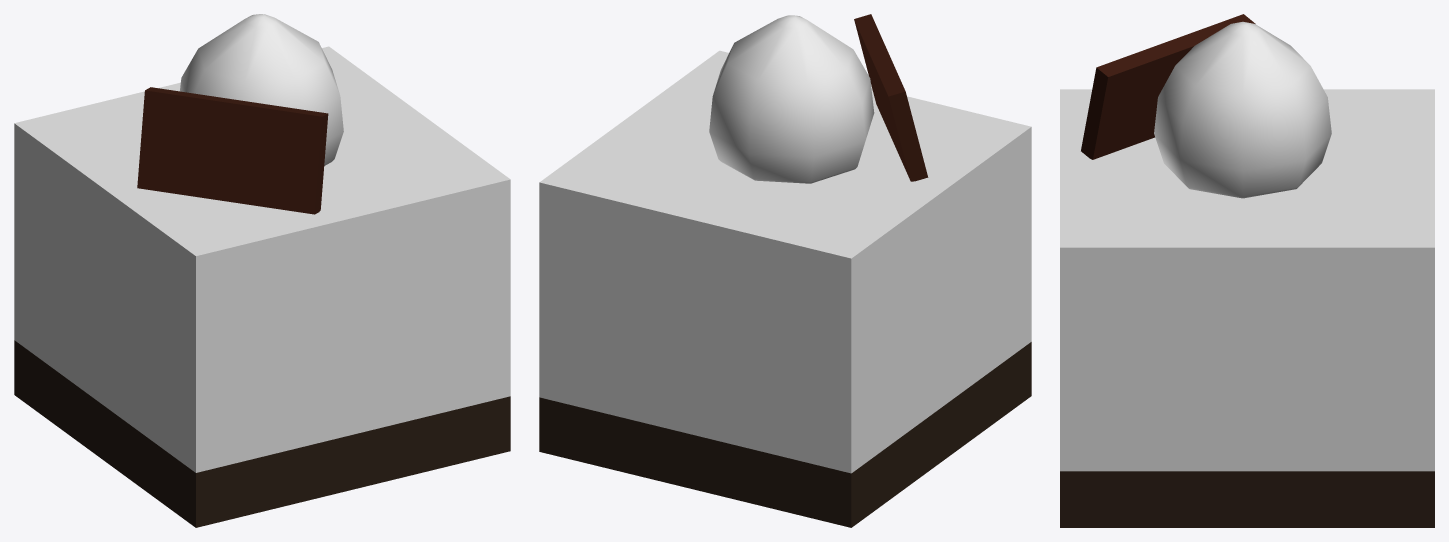
File: cake_blue_1.fbx
The picture shows the model from 3 angles, left to right: view 1: azimuth 30°, elevation 25°; view 2: azimuth 150°, elevation 25°; view 3: azimuth 270°, elevation 25°; orthographic projection. The views are drawn at different scales.
Visible parts, largest first — view 1: 立方体.024; view 2: 立方体.024; view 3: 立方体.024.
Part boxes in pixels (x1,y1,x2,y2): 立方体.024: (14,14,510,527); 立方体.024: (539,14,1031,527); 立方体.024: (1060,14,1434,527).
Bounding box in the file's own units: 14.6 × 18.16 × 14.6.
